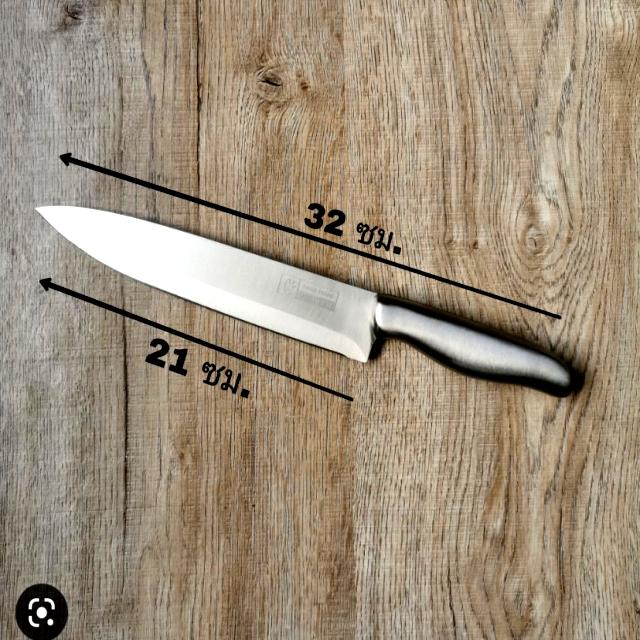knife: (4, 123, 600, 426)
